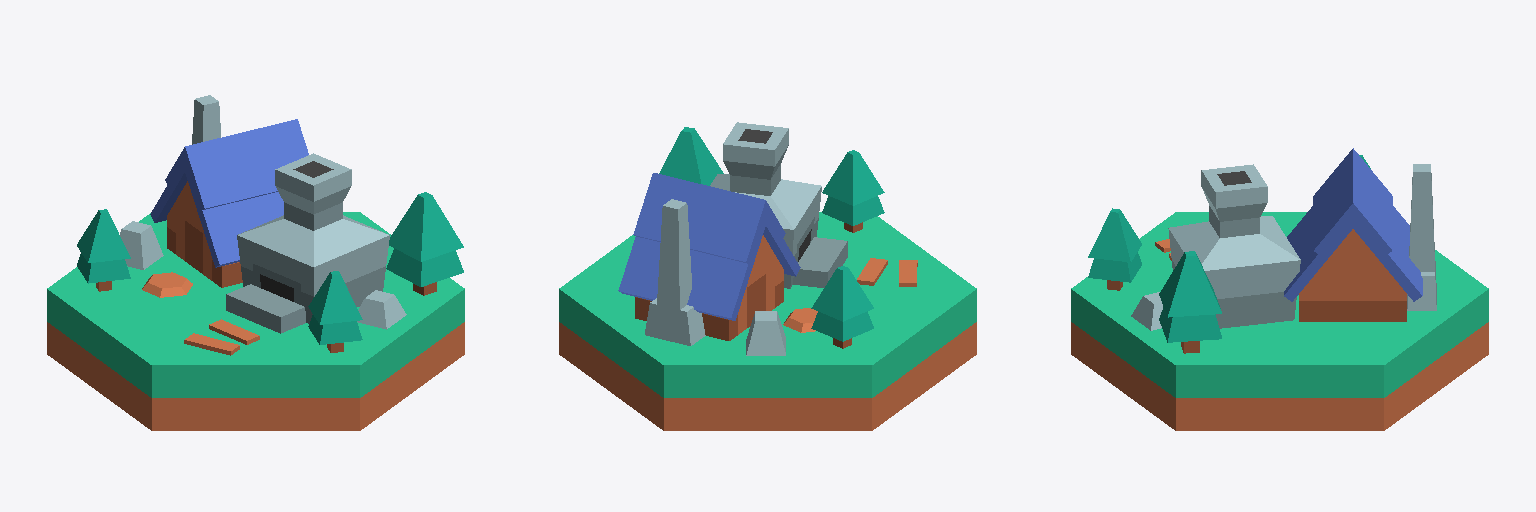
File: building_smelter.obj
The picture shows the model from 3 angles: view 1: azimuth 30°, elevation 25°; view 2: azimuth 150°, elevation 25°; view 3: azimuth 270°, elevation 25°; orthographic projection.
Parts seen in each view (by area): view 1: building_smelter, furnace, building, tree, rock, path, chimney; view 2: building_smelter, building, furnace, tree, chimney, path, rock; view 3: building_smelter, building, furnace, tree, chimney, rock.
Boxes of the visible parts, x1,y1,x2,y2 form: building_smelter: [47, 212, 464, 430]; furnace: [226, 153, 389, 333]; building: [150, 119, 308, 287]; tree: [77, 192, 463, 352]; rock: [120, 221, 406, 329]; path: [142, 272, 259, 355]; chimney: [192, 95, 220, 144]; building_smelter: [559, 212, 976, 430]; building: [618, 173, 800, 340]; furnace: [710, 122, 847, 288]; tree: [659, 127, 884, 348]; chimney: [645, 199, 705, 345]; path: [783, 258, 917, 332]; rock: [746, 311, 785, 355]; building_smelter: [1071, 212, 1488, 430]; building: [1284, 148, 1422, 321]; furnace: [1168, 164, 1300, 328]; tree: [1088, 155, 1370, 353]; chimney: [1407, 164, 1436, 310]; rock: [1131, 292, 1162, 330].
Size of the model in its own units: 1 by 0.6 by 1.15.